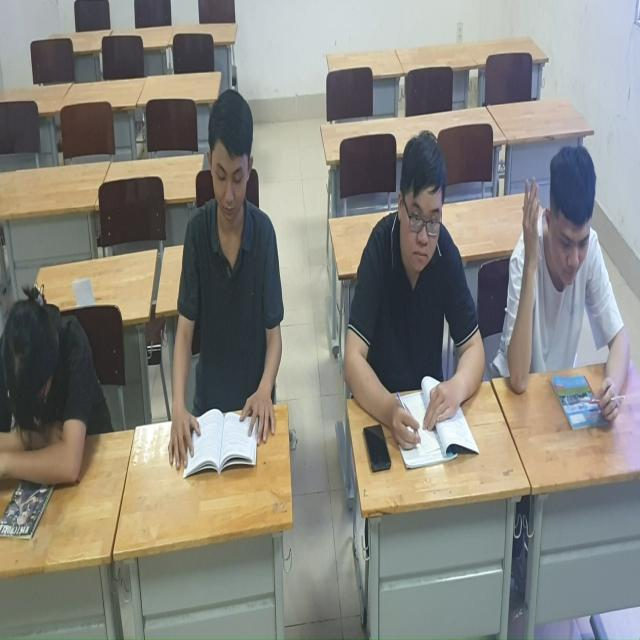raise_hand: (500, 120, 640, 434)
read: (336, 139, 491, 474), (167, 68, 289, 471)
sleep: (1, 285, 101, 514)
